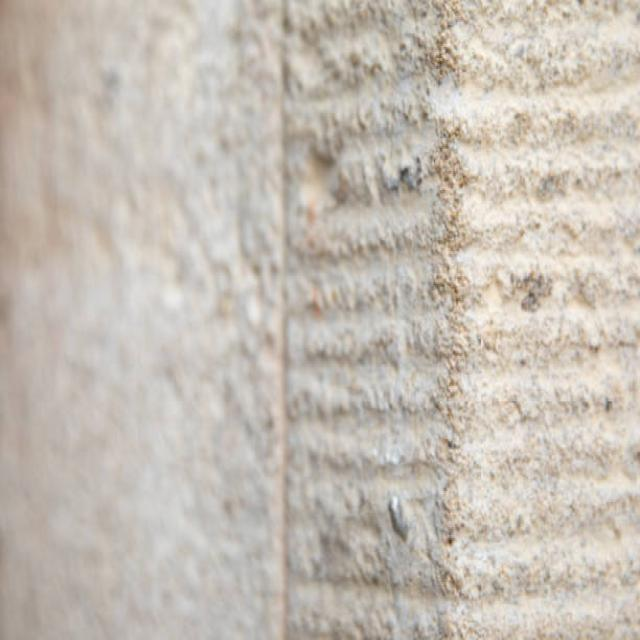Sedimentary: (299, 6, 635, 640)
